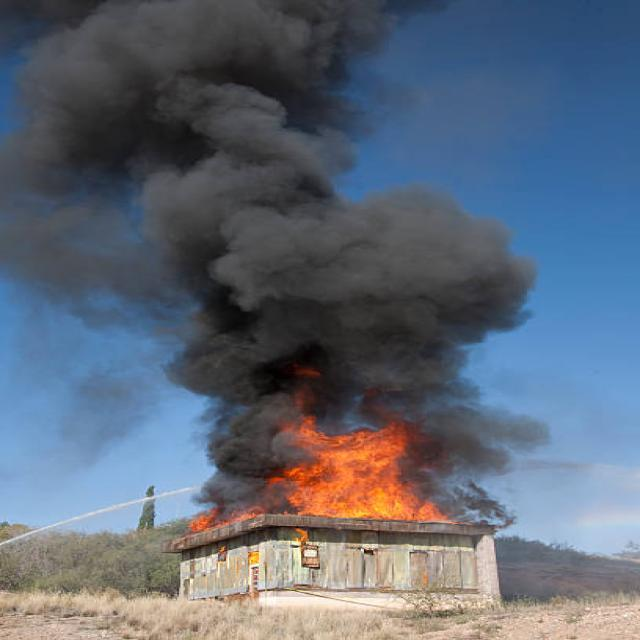Fire: (220, 393, 434, 538)
Smoke: (16, 4, 540, 364), (164, 322, 580, 494)
